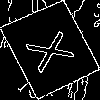X: (25, 24, 85, 74)
